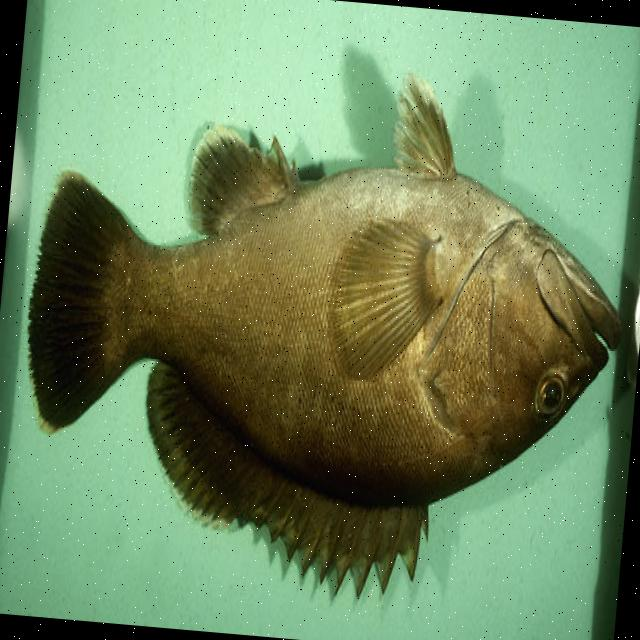ikan: (5, 43, 640, 623)
